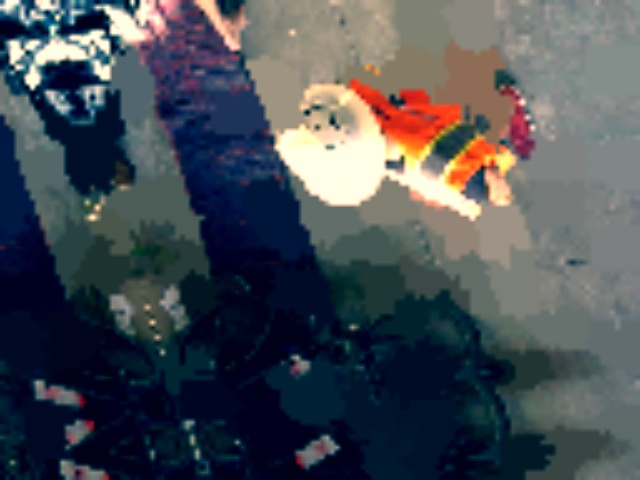two: (300, 105, 351, 149)
